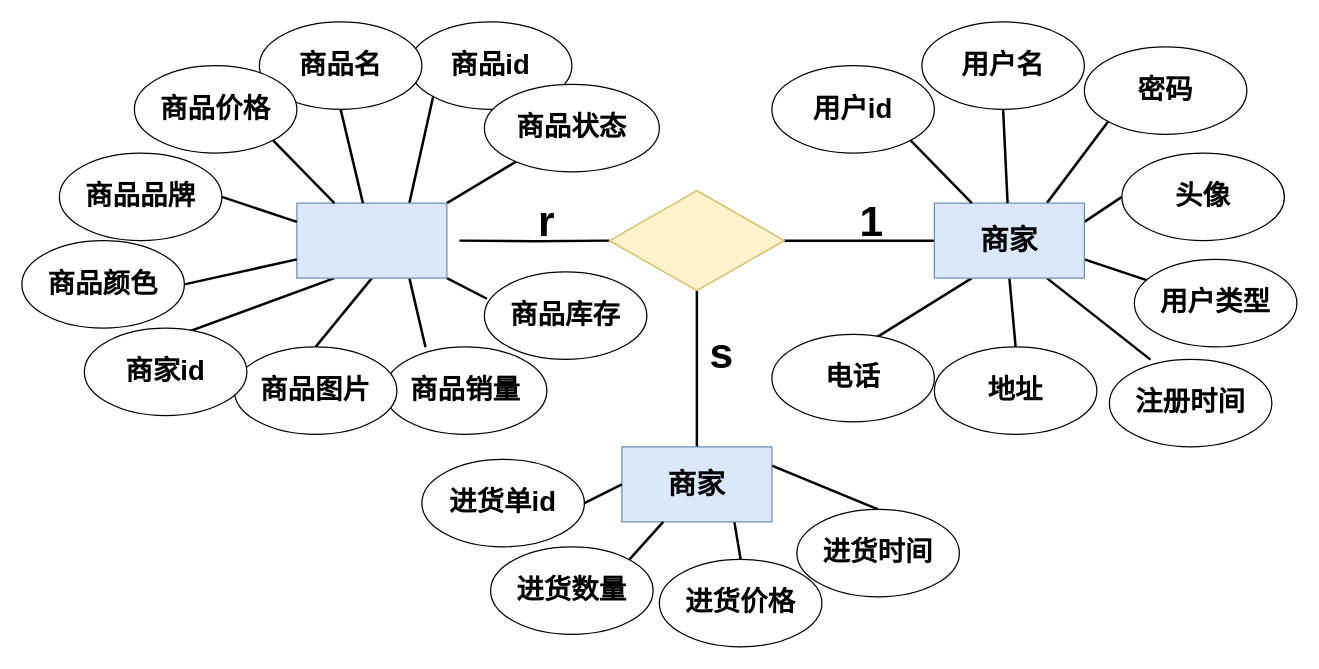
Some shapes in this 1319 by 669 pixel diagram are drawn without their labels. The centre of each missing label's shape, as x and y in pixels:
"商品" belongs at [371,240].
"进货" belongs at [696,240].
